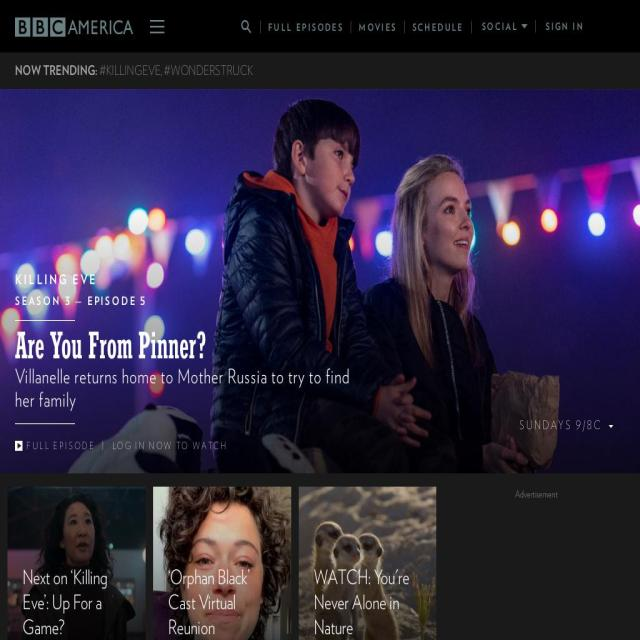button: (0, 89, 640, 473), (152, 486, 292, 640), (298, 486, 437, 640), (8, 486, 146, 640), (15, 4, 141, 38), (260, 20, 352, 33), (404, 20, 472, 33), (351, 20, 405, 33), (474, 22, 536, 32), (233, 13, 258, 37)
heading: (15, 322, 207, 366), (313, 564, 422, 640), (22, 564, 130, 640), (168, 564, 276, 640)
image: (0, 89, 640, 539), (152, 486, 292, 640), (298, 486, 437, 640), (8, 486, 146, 640), (15, 18, 133, 38)
link: (519, 428, 603, 468), (15, 294, 147, 308), (112, 438, 227, 452), (164, 62, 253, 78), (26, 438, 96, 452), (100, 62, 160, 78), (546, 20, 584, 33)
text: (15, 364, 381, 412), (440, 486, 633, 502), (15, 62, 97, 78), (15, 271, 97, 287), (102, 438, 106, 452), (160, 62, 163, 78)
